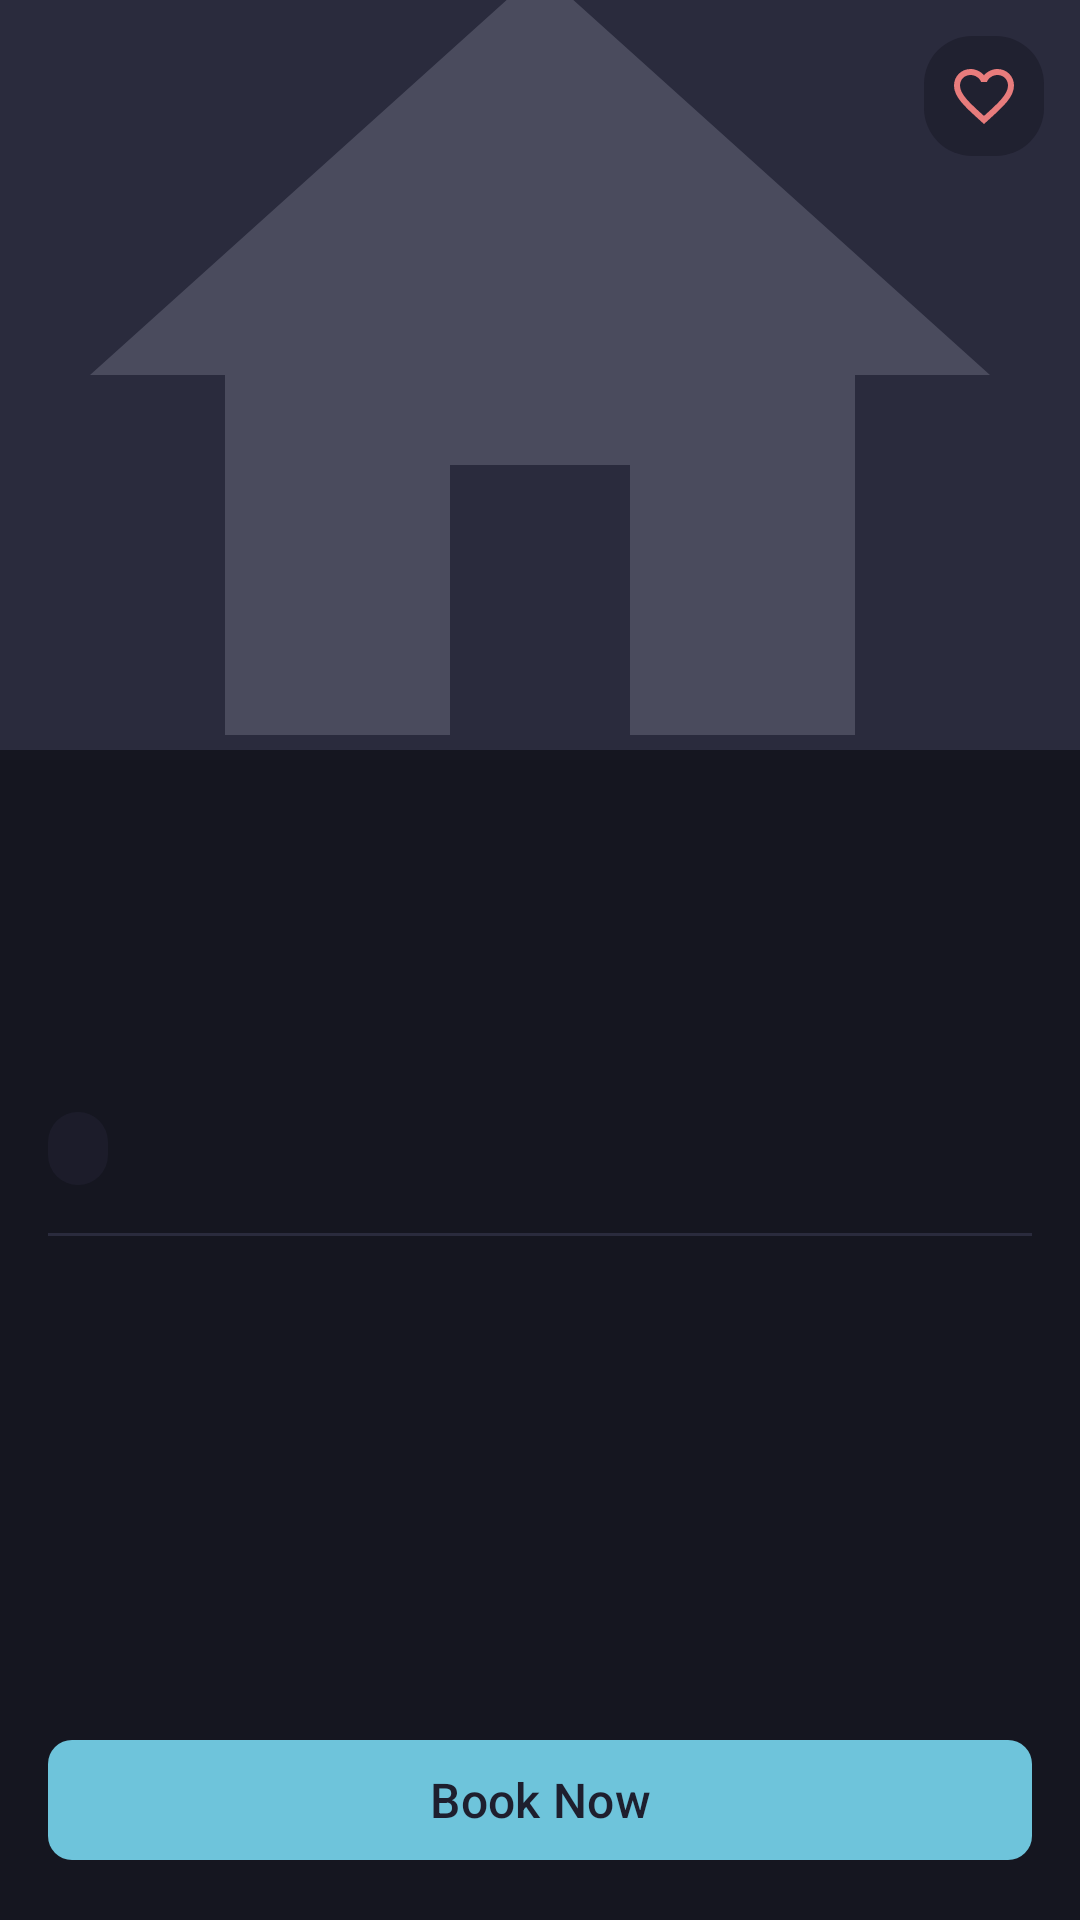

Icon bounding boxes for this 1080 × 1920 phone screenshot, format box=[x1, y1, x2, y2]:
Favorite: box=[924, 36, 1044, 156]
